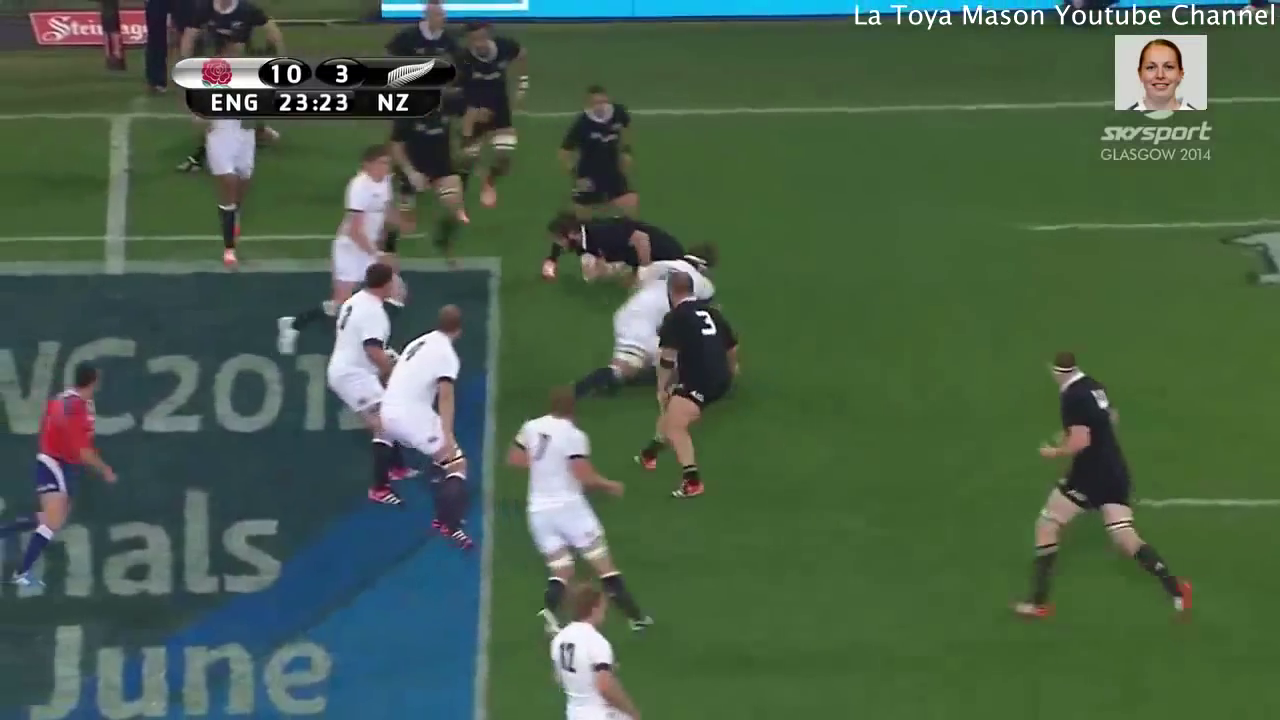ball: (575, 248, 614, 280)
player: (1007, 340, 1200, 637), (507, 383, 667, 641), (1, 356, 127, 594), (277, 141, 410, 356), (633, 267, 742, 516), (321, 259, 432, 493), (380, 297, 478, 552), (449, 21, 530, 203), (540, 583, 644, 720), (558, 81, 649, 230), (377, 117, 465, 262), (190, 116, 271, 268), (539, 212, 689, 280)
ruck: (531, 212, 736, 383)
